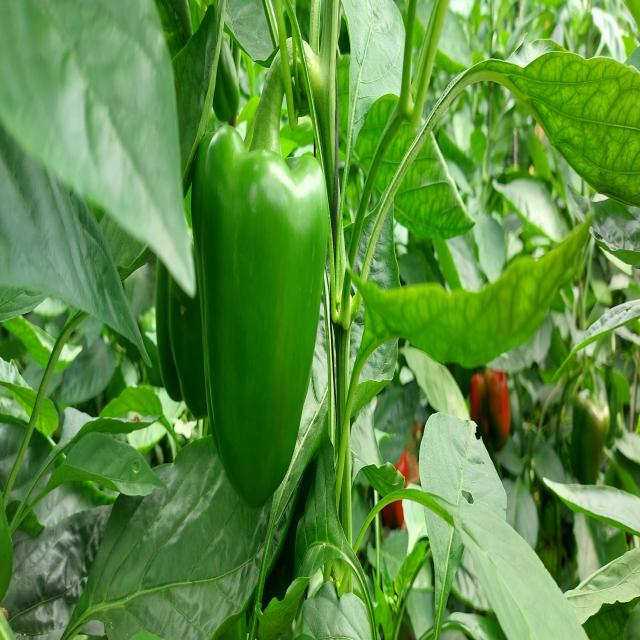Green--Not-ready-to-harvest: (194, 123, 333, 510), (572, 387, 617, 507)
Red-Ready-to-Harvest: (468, 371, 517, 450), (374, 450, 422, 522)
